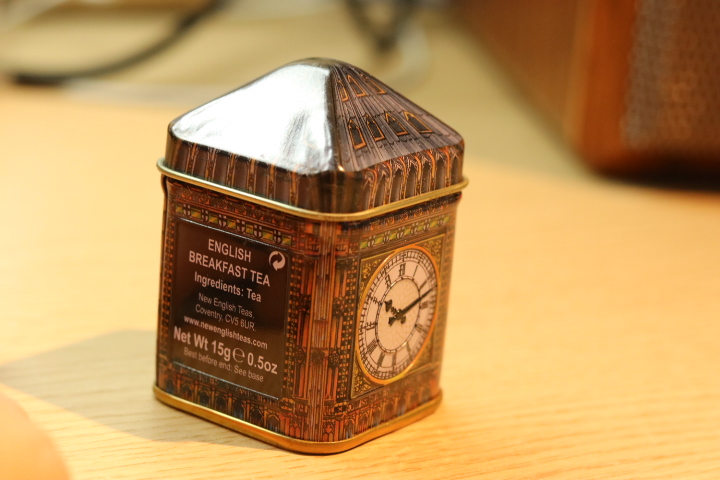Big Ben: (147, 45, 492, 472)
